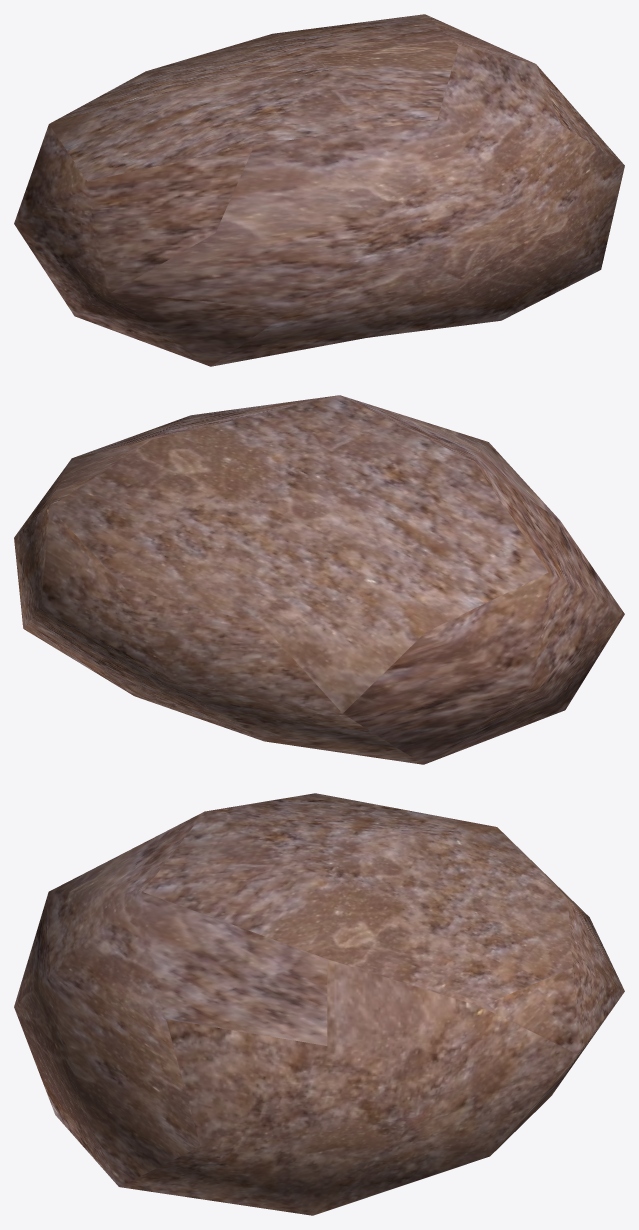
File: redrock.fbx
3 views of the same model, one above another, from view 1: azimuth 30°, elevation 25°; view 2: azimuth 150°, elevation 25°; view 3: azimuth 270°, elevation 25° (orthographic). The views are drawn at different scales.
Visible parts, largest first — view 1: Icosphere.001; view 2: Icosphere.001; view 3: Icosphere.001.
Boxes of the visible parts, <box> form: Icosphere.001: <box>14,14,624,366</box>; Icosphere.001: <box>14,395,624,764</box>; Icosphere.001: <box>14,793,624,1215</box>.
Bounding box in the file's own units: 28.32 × 11.38 × 25.08.
1 material, 1 textured.
